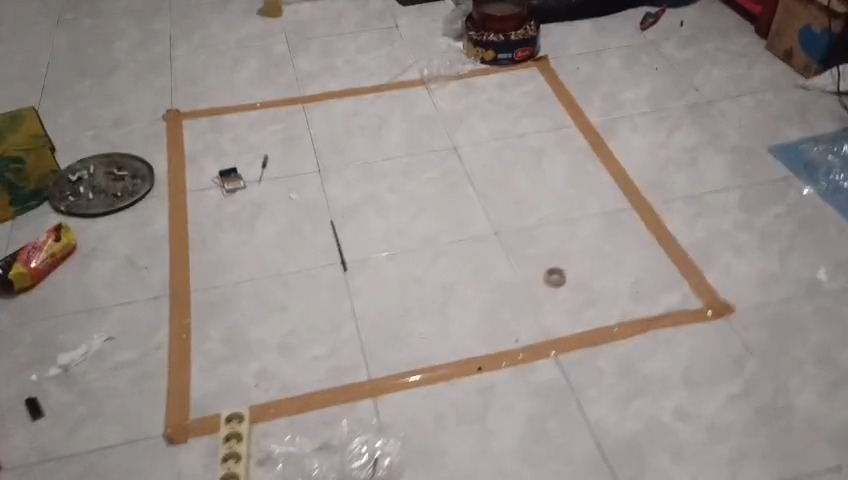floor marking: (250, 57, 733, 422), (164, 79, 426, 444)
